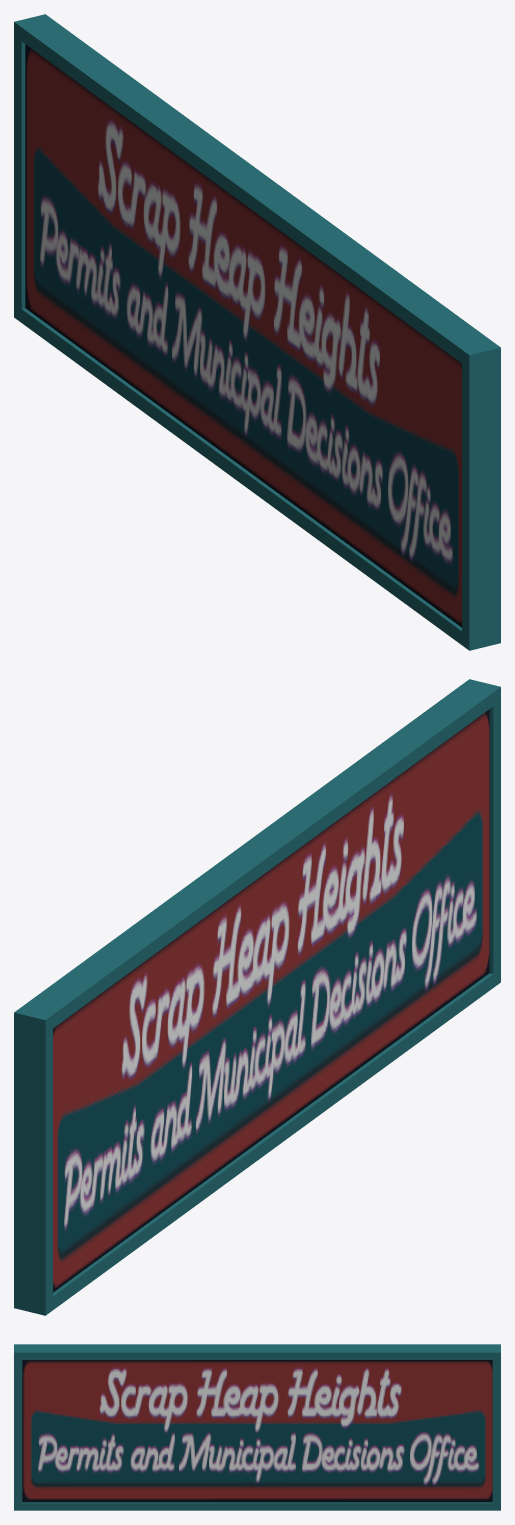
The model's file is Sign_TownOffice.fbx.
The picture shows the model from 3 angles, top to bottom: view 1: azimuth 30°, elevation 25°; view 2: azimuth 150°, elevation 25°; view 3: azimuth 270°, elevation 25°; orthographic projection. The views are drawn at different scales.
Visible parts, largest first — view 1: Cube.472; view 2: Cube.472; view 3: Cube.472.
Part boxes in pixels (box(x1,y1,x2,y2)): Cube.472: box(14, 14, 500, 650); Cube.472: box(14, 679, 500, 1315); Cube.472: box(14, 1344, 500, 1510).
Bounding box in the file's own units: 8.91 × 79.87 × 223.
